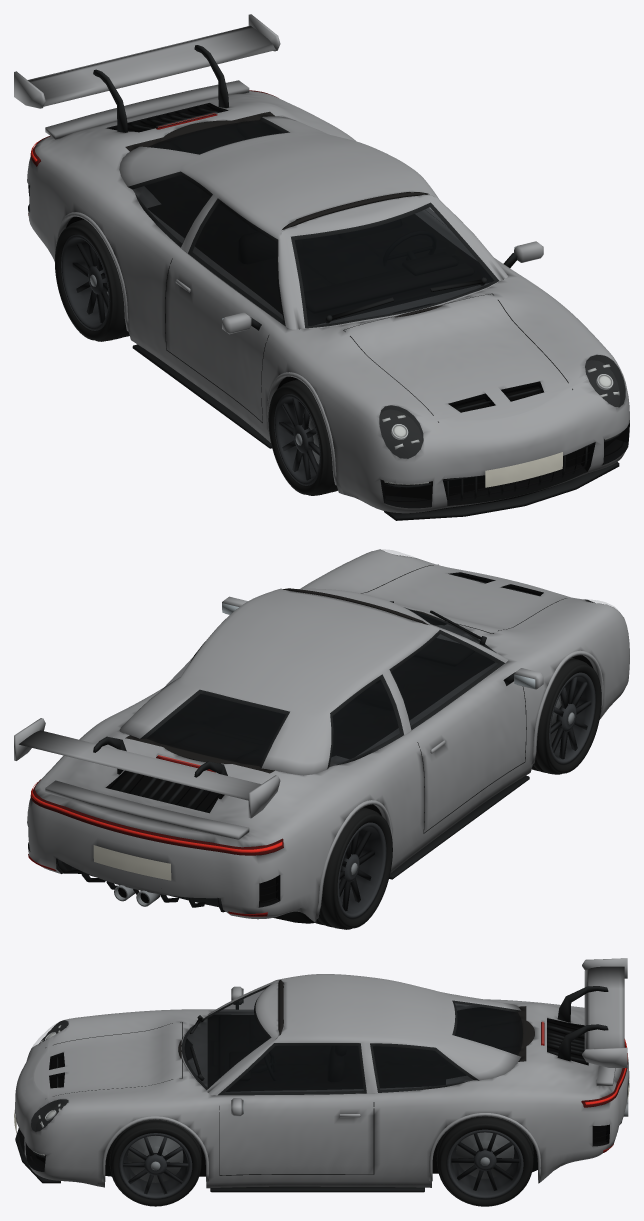
The model's file is porsche-911-gt3.glb.
3 renders of one model, top to bottom at view 1: azimuth 30°, elevation 25°; view 2: azimuth 150°, elevation 25°; view 3: azimuth 270°, elevation 25°, orthographic. The views are drawn at different scales.
Visible parts, largest first — view 1: Coachwork, Body, Wheel_RR, Wheel_FR, Plate; view 2: Coachwork, Body, Wheel_RR, Wheel_FR, Plate, Taillights; view 3: Coachwork, Body, Wheel_RL, Wheel_FL.
Boxes of the visible parts, x1,y1,x2,y2 form: Coachwork: (27, 91, 629, 513); Body: (14, 14, 625, 520); Wheel_RR: (55, 219, 129, 341); Wheel_FR: (268, 379, 337, 495); Plate: (485, 452, 562, 487); Coachwork: (27, 549, 629, 923); Body: (14, 549, 617, 919); Wheel_RR: (316, 807, 392, 929); Wheel_FR: (532, 658, 601, 774); Plate: (93, 845, 171, 880); Taillights: (31, 755, 282, 852); Coachwork: (15, 999, 629, 1188); Body: (15, 958, 628, 1192); Wheel_RL: (436, 1116, 533, 1206); Wheel_FL: (109, 1119, 201, 1206).
Bounding box in the file's own units: 2.13 × 1.28 × 4.59.
